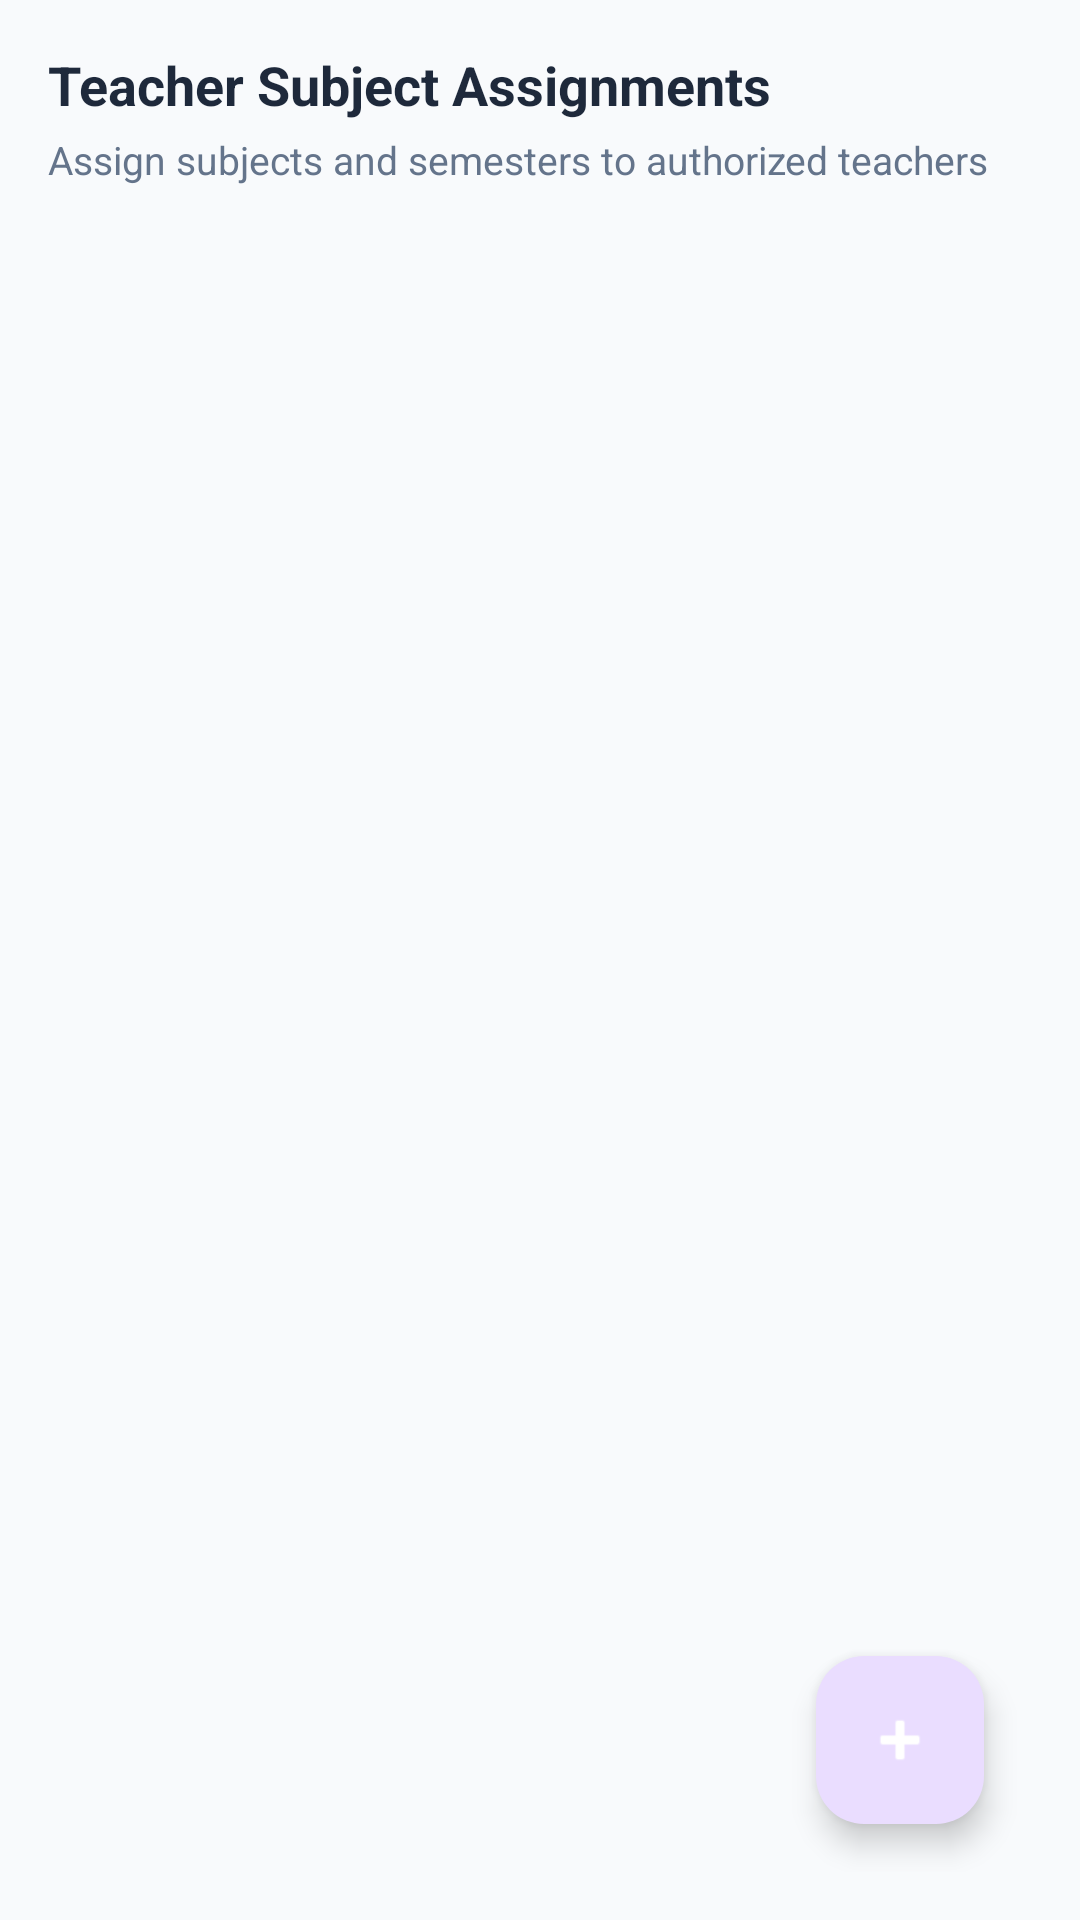

Where icons sit on this 1080w x 1920h app screen, as box(x1, y1, x2, y2):
Add Assignment: box(816, 1656, 984, 1824)
